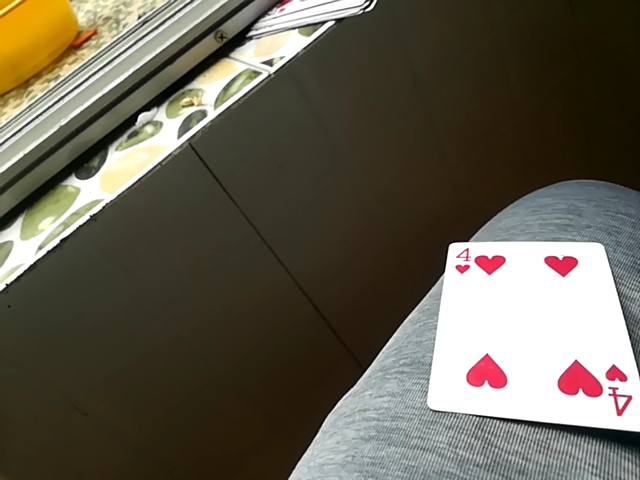hx 4: (426, 240, 640, 435)
